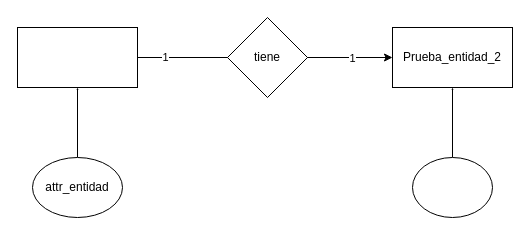
Image size: 530x235. Some labels were removed from this diagram. Each missing label, with the centre of its shape:
"attr_entidad_2" goes at point 452,187.
"Prueba_entidad" goes at point 77,57.
